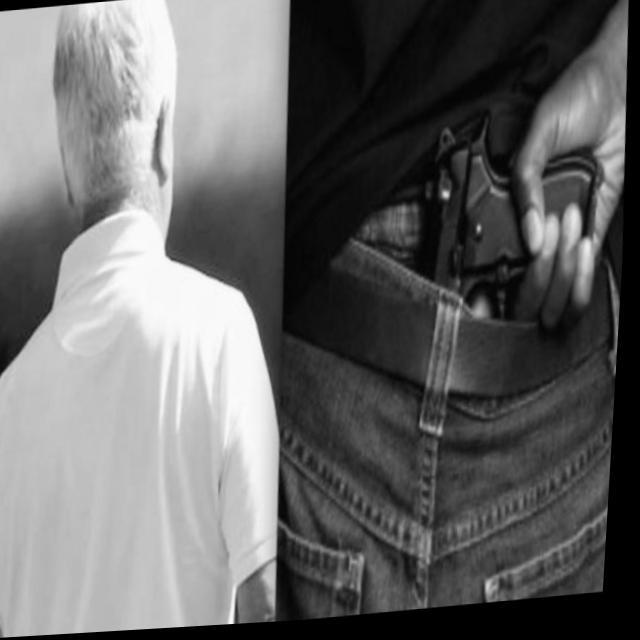weapon: (423, 102, 610, 336)
